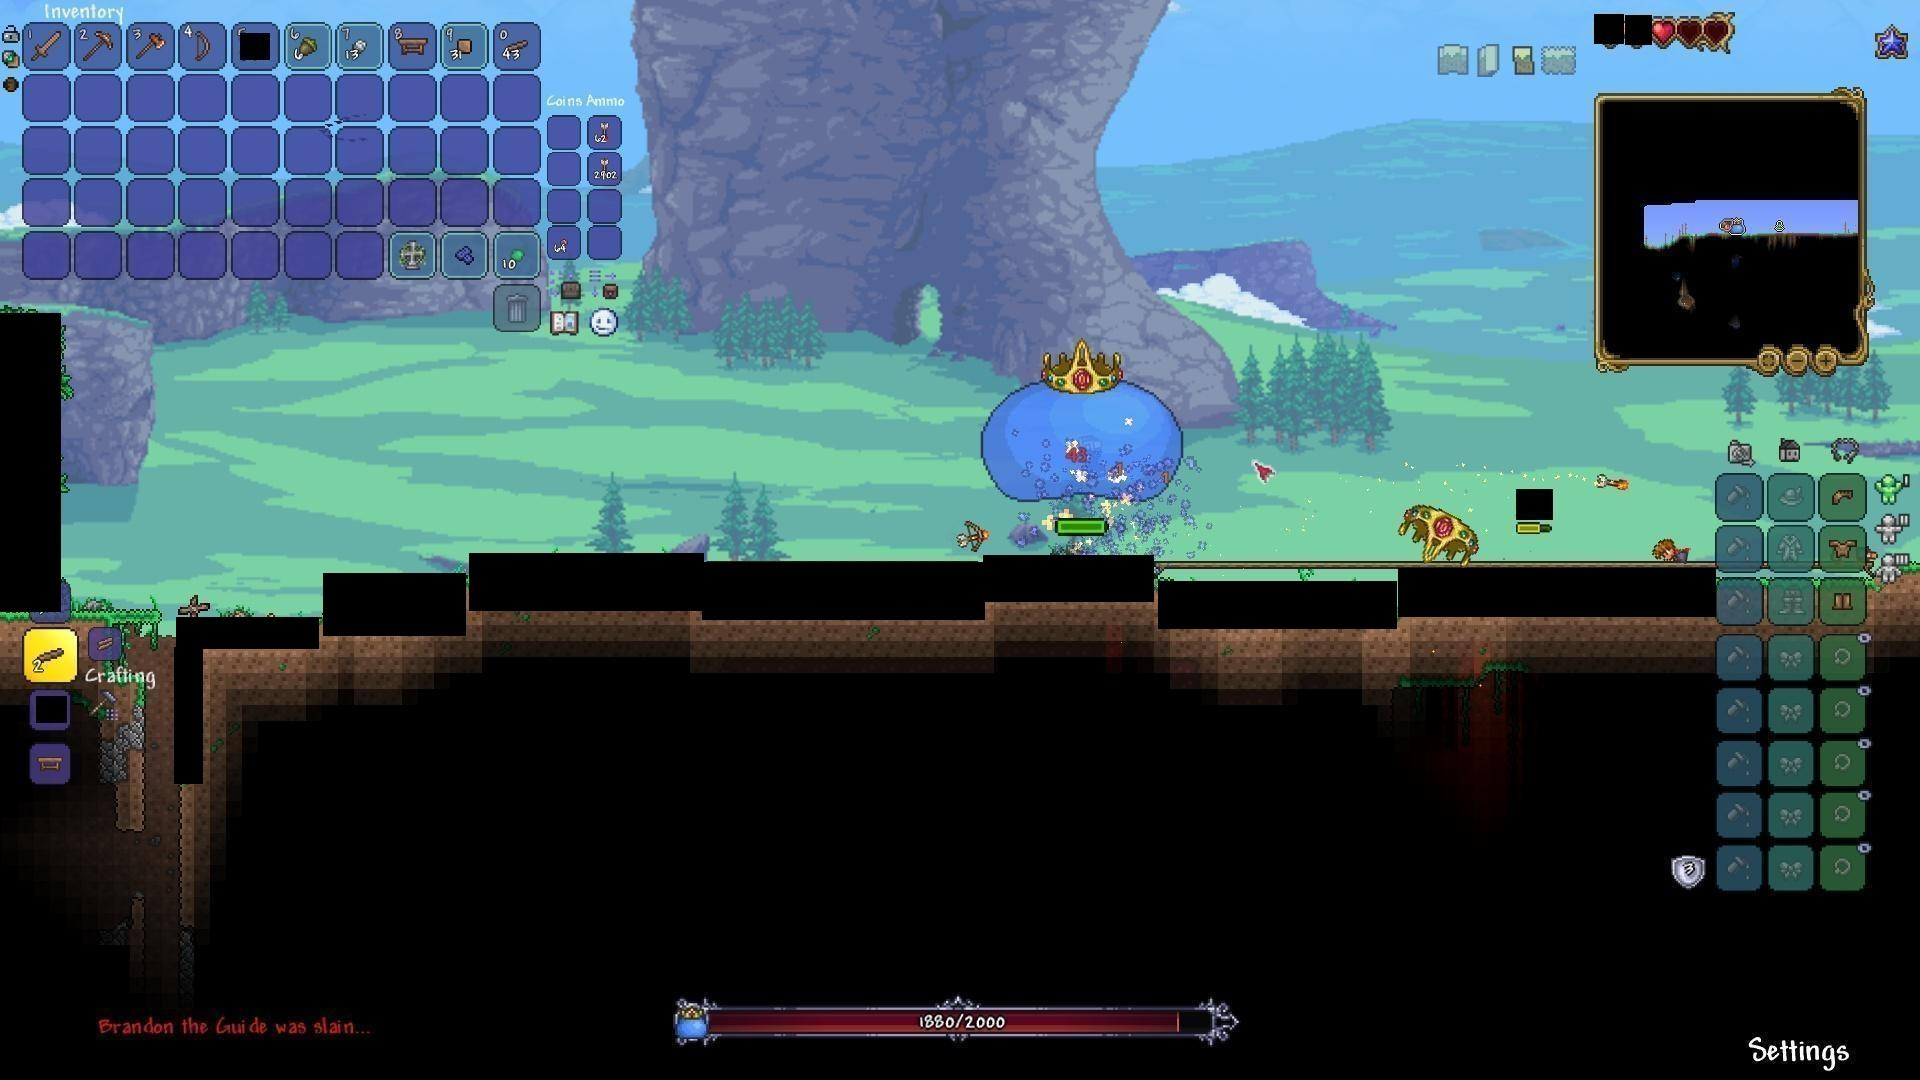breastplate: (1829, 538, 1858, 558)
dirt: (79, 608, 164, 622)
heart: (1648, 16, 1677, 46)
helmet: (1828, 484, 1857, 510)
legs: (1832, 587, 1858, 616)
wood: (88, 628, 120, 658)
workbench: (392, 33, 429, 58), (36, 752, 69, 775)
